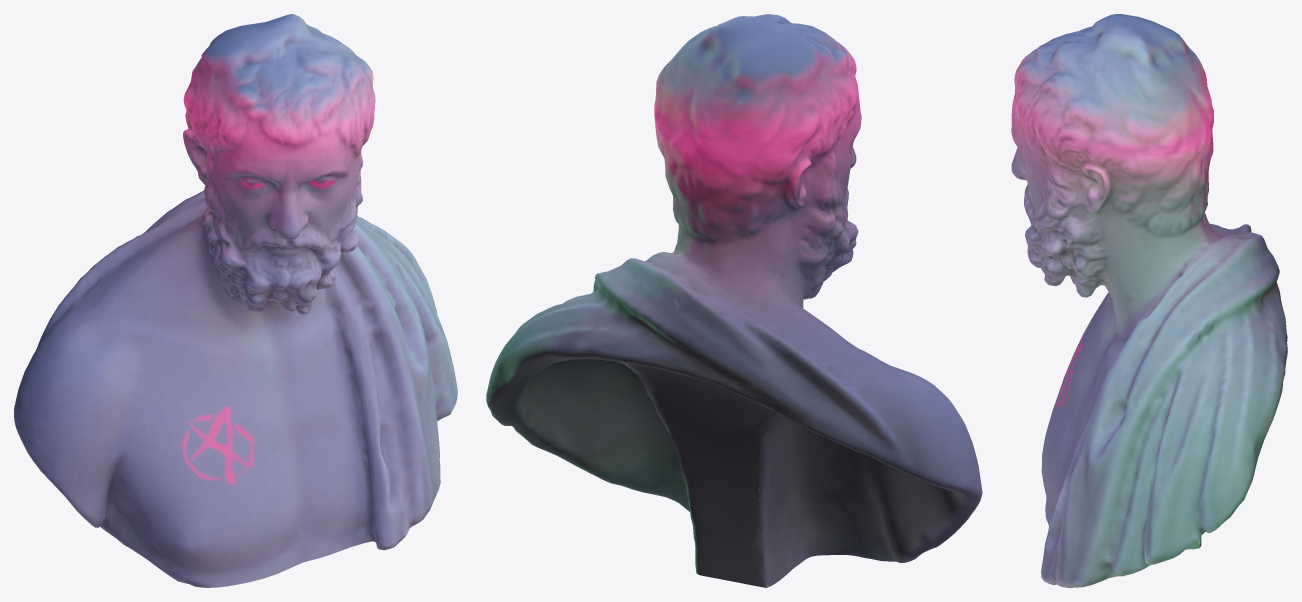
File: marcus.glb
3 renders of one model, left to right at view 1: azimuth 30°, elevation 25°; view 2: azimuth 150°, elevation 25°; view 3: azimuth 270°, elevation 25°, orthographic. The views are drawn at different scales.
Parts seen in each view (by area): view 1: marcus; view 2: marcus; view 3: marcus.
Boxes of the visible parts, x1,y1,x2,y2 form: marcus: (14, 14, 457, 587); marcus: (486, 14, 982, 587); marcus: (1011, 14, 1287, 587).
Bounding box in the file's own units: 1.58 × 1.78 × 0.8594.
